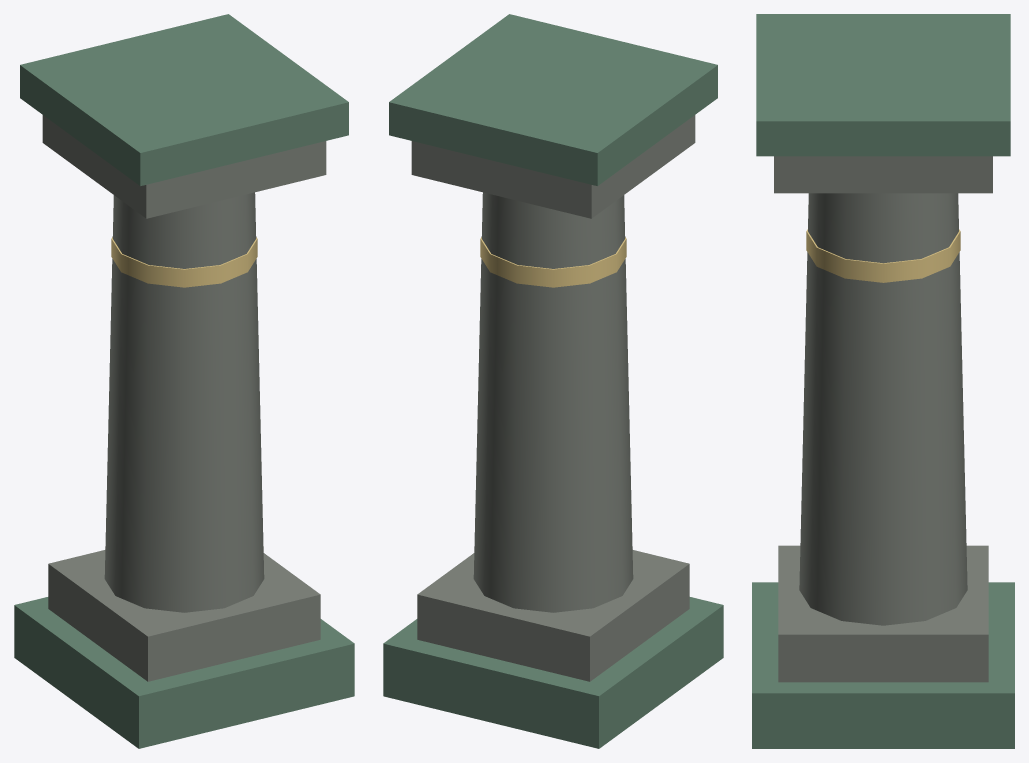
Rendered from temple-pillar.glb.
The picture shows the model from 3 angles, left to right: view 1: azimuth 30°, elevation 25°; view 2: azimuth 150°, elevation 25°; view 3: azimuth 270°, elevation 25°; orthographic projection. The views are drawn at different scales.
Parts seen in each view (by area): view 1: temple-pillar; view 2: temple-pillar; view 3: temple-pillar.
Boxes of the visible parts, x1,y1,x2,y2 form: temple-pillar: (14,14,354,748); temple-pillar: (383,14,723,748); temple-pillar: (752,14,1014,748).
Size of the model in its own units: 1.5 by 3.94 by 1.5.
